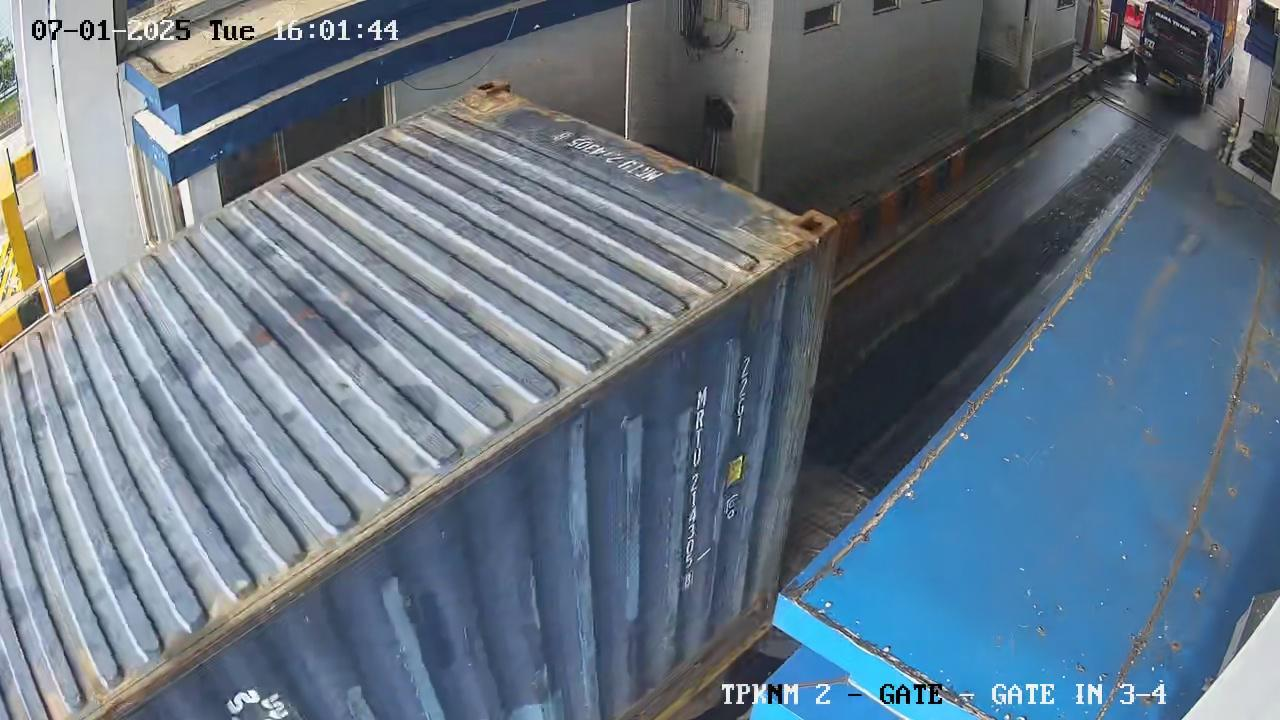Container_ID_Vertikal: (682, 386, 708, 592)
